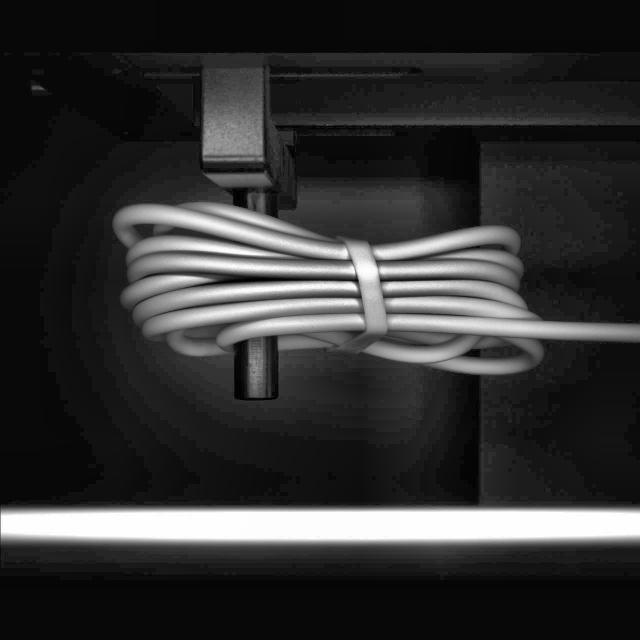Cable: (109, 194, 640, 378)
